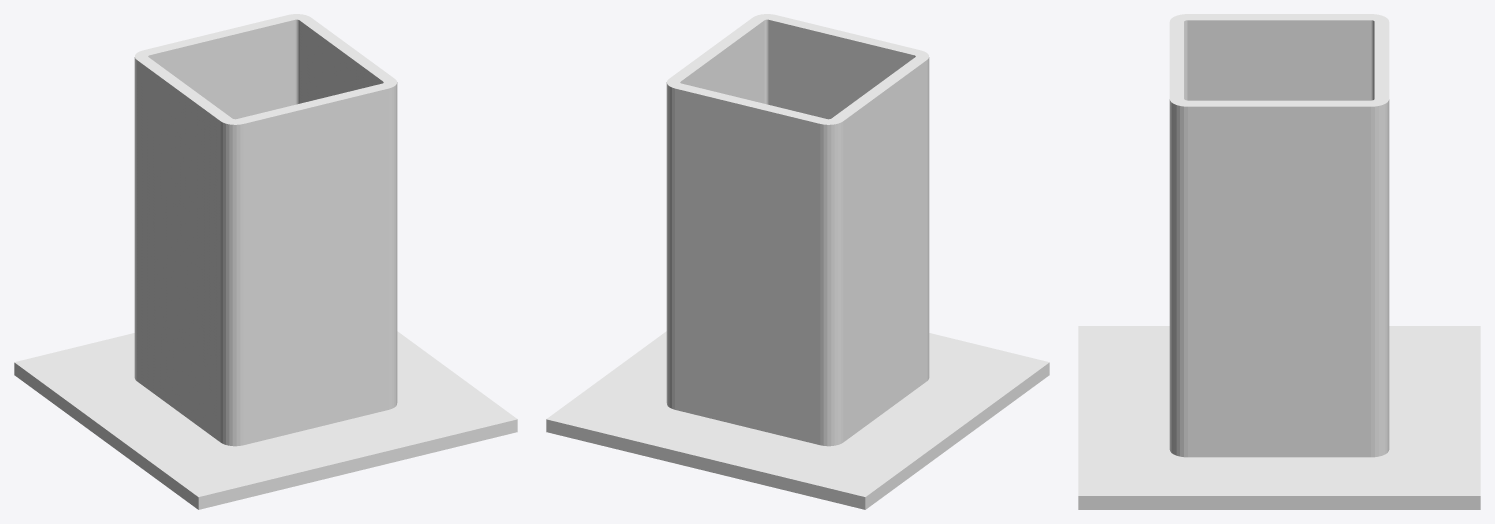
Rendered from fangguan.obj.
3 views of the same model, side by side, from view 1: azimuth 30°, elevation 25°; view 2: azimuth 150°, elevation 25°; view 3: azimuth 270°, elevation 25° (orthographic). The views are drawn at different scales.
Visible parts, largest first — view 1: F120; view 2: F120; view 3: F120.
Part boxes in pixels (x1,y1,x2,y2): F120: (14,14,517,509); F120: (546,14,1049,509); F120: (1078,14,1480,509).
Size of the model in its own units: 1 by 1 by 1.
Materials: 1 (1 with a texture image).
